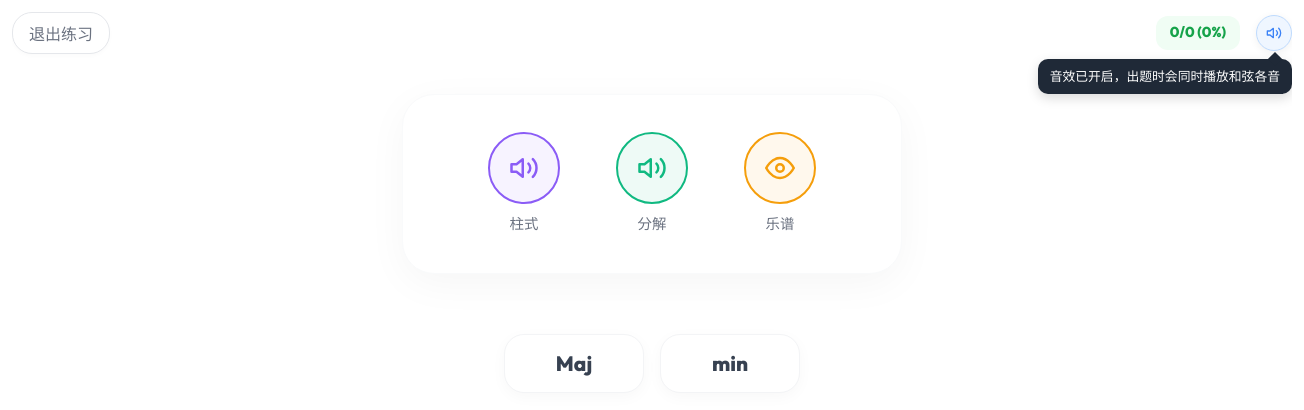
Test: ChordPractice speakers-only mode (default, no score) › reveals the score briefly on a correct answer
Expected: the element with test id "chord-speakers" is shown, [488,132,816,233]
Click the button "Maj": (574, 364) [504,334,644,393]
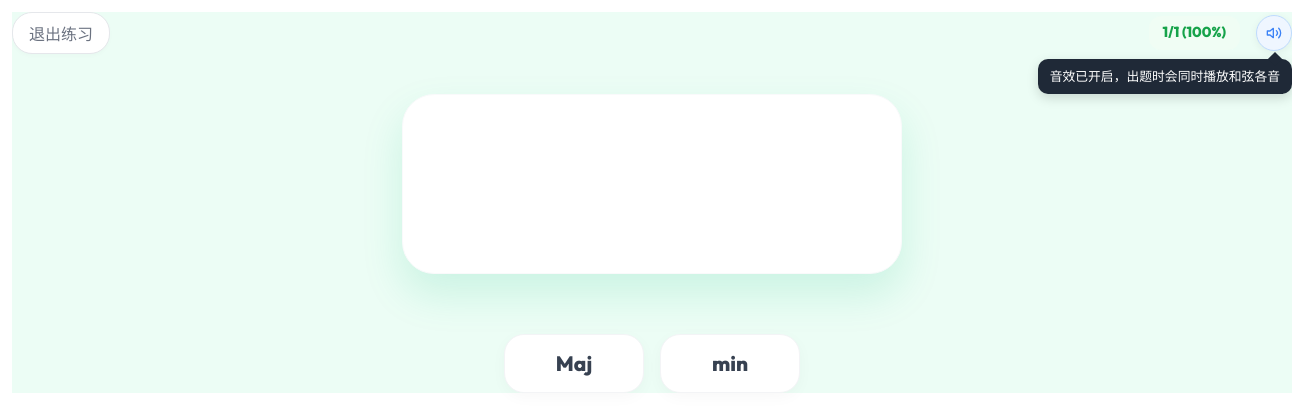
Expected: the element with test id "chord-speakers" is gone
